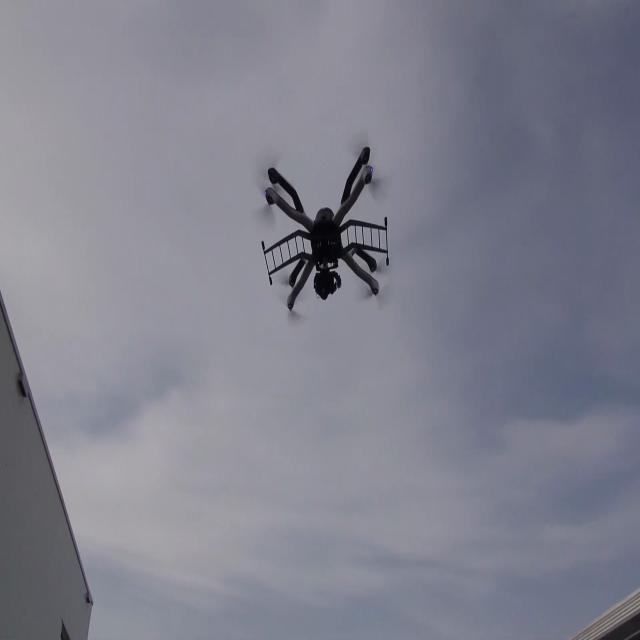drone: (245, 145, 402, 320)
